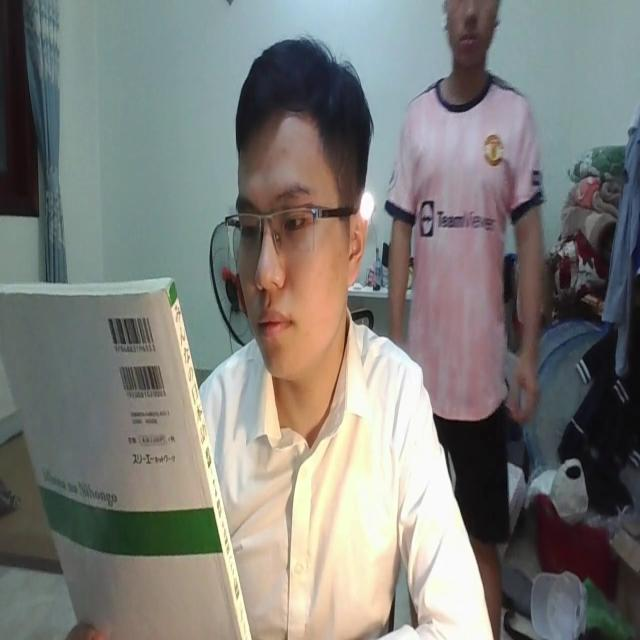book: (0, 261, 257, 640)
extra_person: (382, 1, 547, 640)
student: (196, 28, 488, 640)
